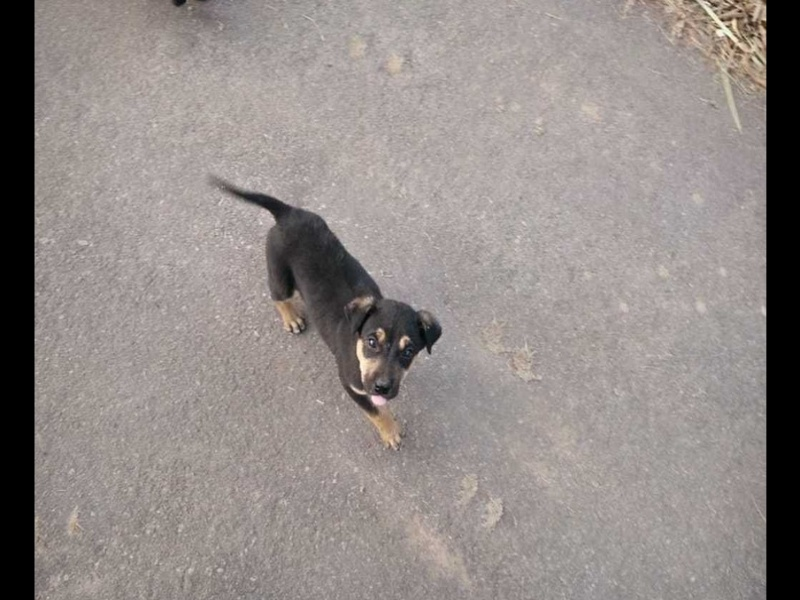dog: (198, 163, 451, 462)
